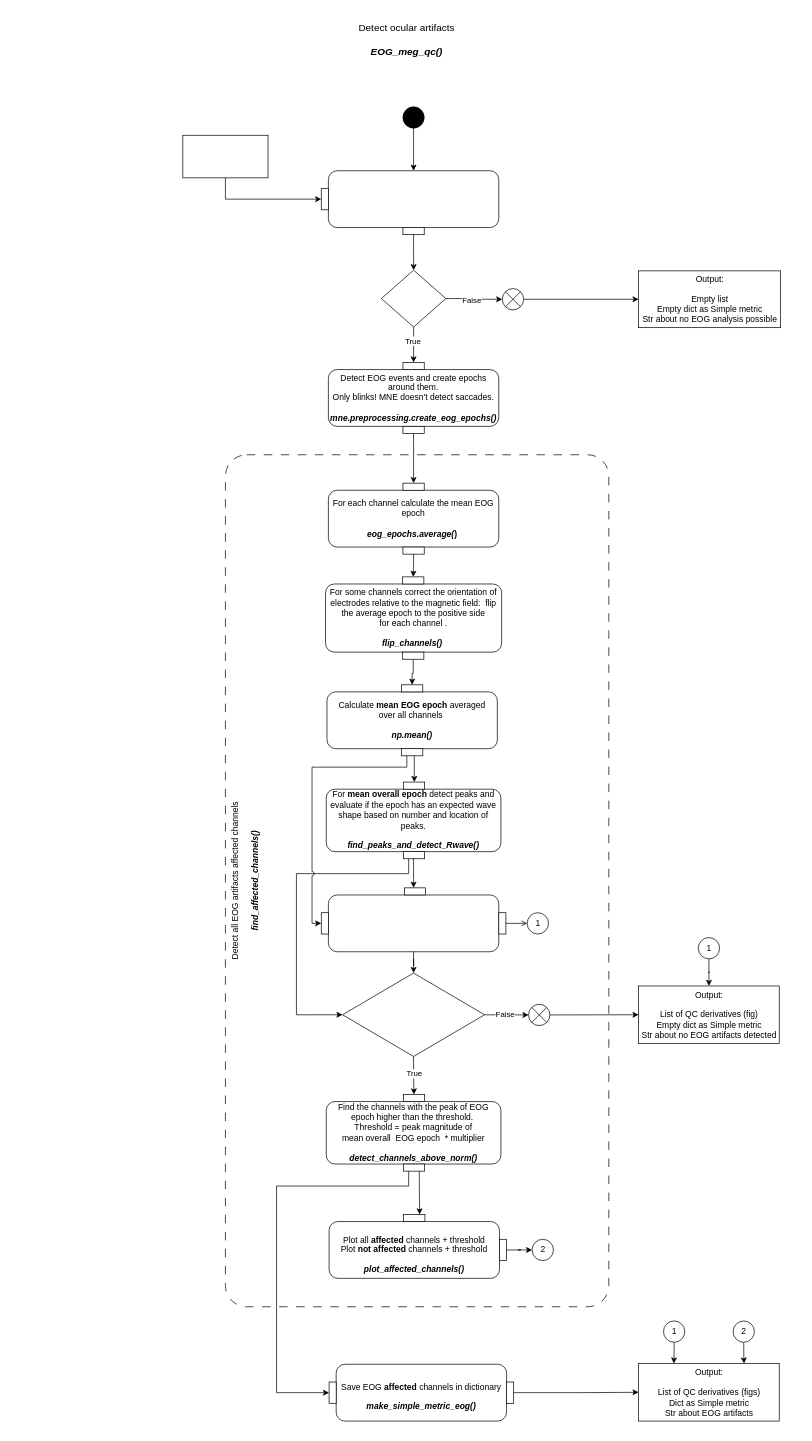
Some shapes in this 812 by 1441 pixel diagram are drawn without their labels. The shapes that lost their labels are listed below. From the top down, each one's centre as x and y in pixels, then its label:
(225,156): Input: Raw data, Config parameters
(413,199): Pick EOG channels mne.pick_types(eog=True)
(413,298): EOG channels present?
(413,923): Plot mean overall epoch and highlight detected peaks plot_epoch_and_peak()
(413,1014): Mean overall epoch has few peaks and wave shape?
